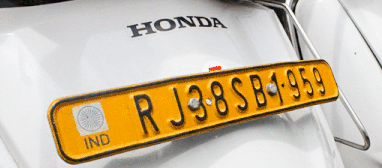numberplate: (45, 57, 339, 163)
